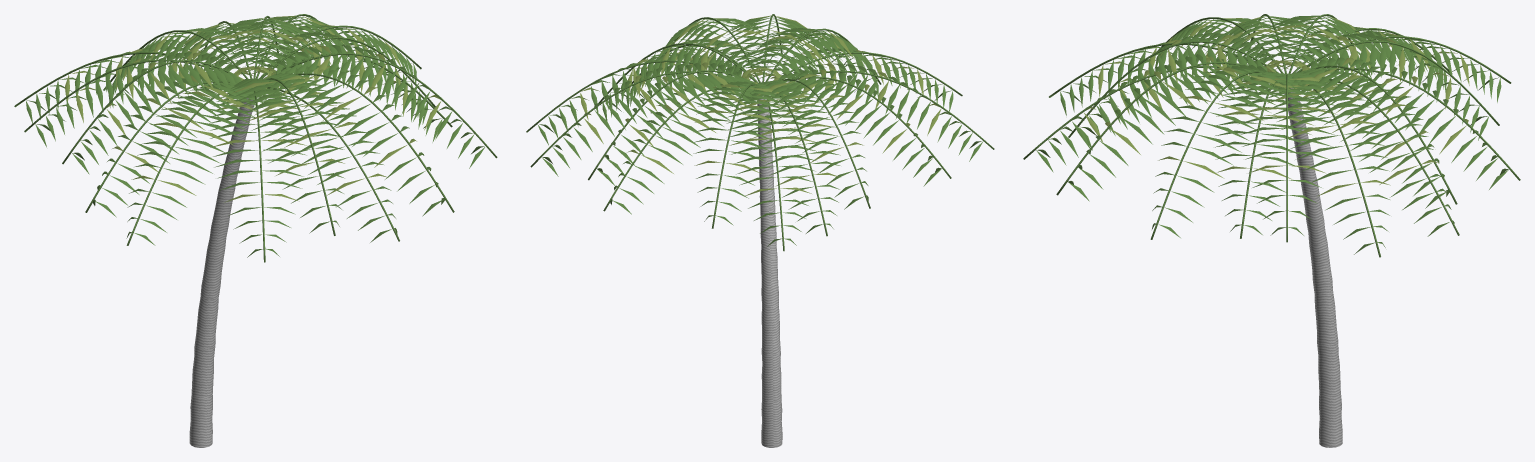
File: palm.glb
The picture shows the model from 3 angles, left to right: view 1: azimuth 30°, elevation 25°; view 2: azimuth 150°, elevation 25°; view 3: azimuth 270°, elevation 25°; orthographic projection. The views are drawn at different scales.
Parts seen in each view (by area): view 1: palm_body; view 2: palm_body; view 3: palm_body.
Boxes of the visible parts, x1=… form: palm_body: x1=14, y1=14, x2=497, y2=447; palm_body: x1=526, y1=14, x2=994, y2=447; palm_body: x1=1023, y1=14, x2=1520, y2=447.
Bounding box in the file's own units: 8.5 × 8.05 × 8.75.
3 materials, 1 textured.
